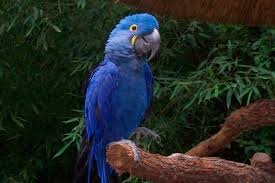guacamaya: (80, 8, 167, 149)
